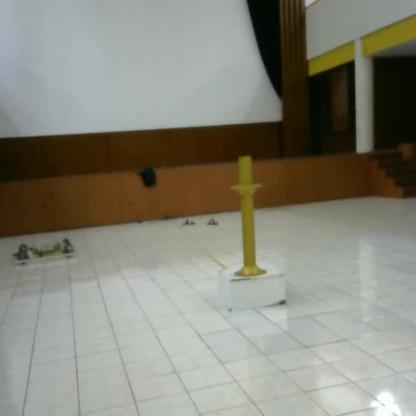pole: (229, 156, 268, 284)
